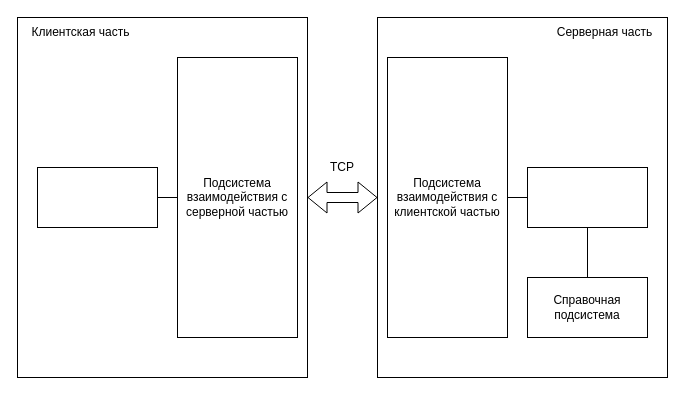
Image size: 685x395. Some labels were removed from this diagram. Each missing label, with the centre of its shape:
"Подсистема визуализации" goes at pixel 97 197.
"Подсистема логики игры" goes at pixel 587 197.
